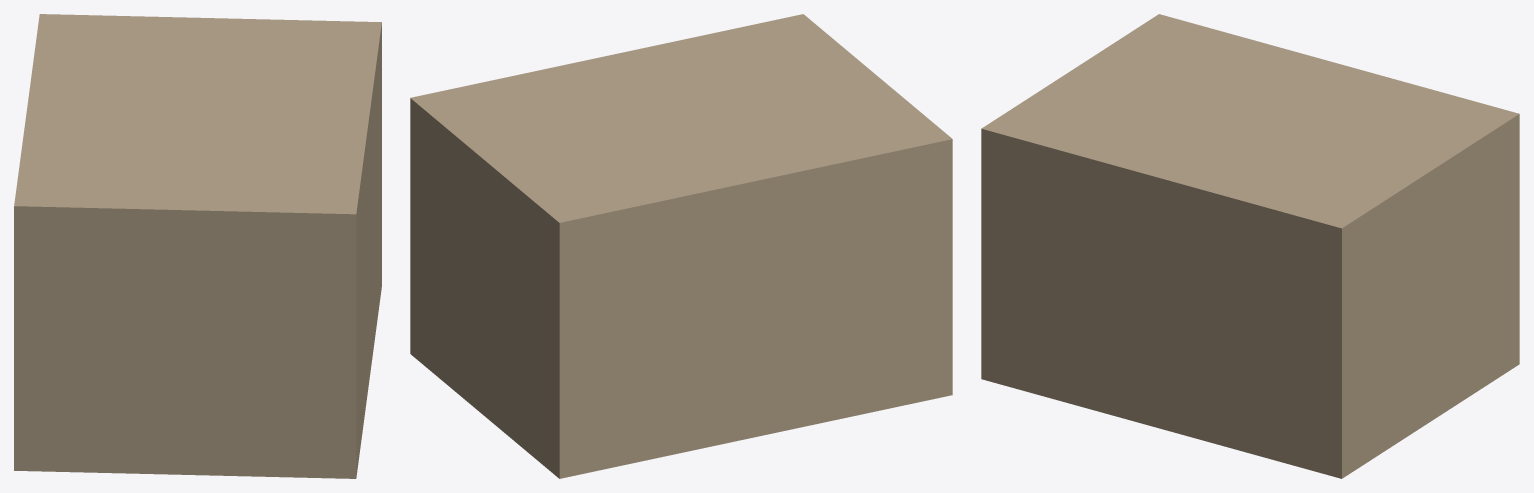
File: bld_101353684.dae
3 views of the same model, side by side, from view 1: azimuth 30°, elevation 25°; view 2: azimuth 150°, elevation 25°; view 3: azimuth 270°, elevation 25° (orthographic). The views are drawn at different scales.
Visible parts, largest first — view 1: bld_101353684; view 2: bld_101353684; view 3: bld_101353684.
Boxes of the visible parts, x1=… form: bld_101353684: x1=14, y1=14, x2=381, y2=478; bld_101353684: x1=410, y1=14, x2=952, y2=478; bld_101353684: x1=981, y1=14, x2=1519, y2=478.
Bounding box in the file's own units: 14.69 × 15.58 × 8.
